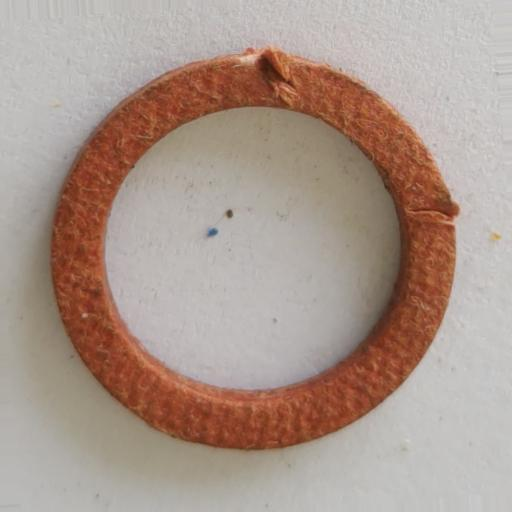defect: (235, 43, 300, 111), (402, 199, 459, 229)
